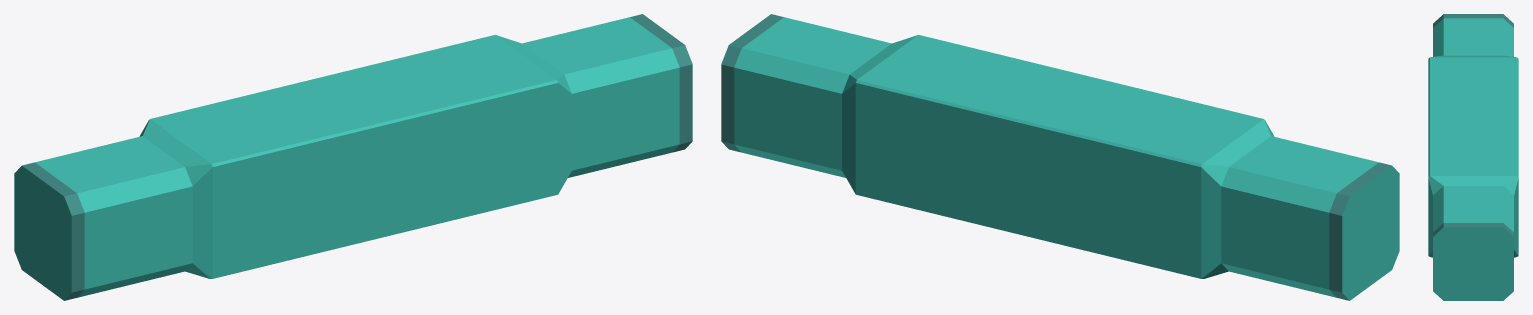
The model's file is FinishBlock.fbx.
3 views of the same model, side by side, from view 1: azimuth 30°, elevation 25°; view 2: azimuth 150°, elevation 25°; view 3: azimuth 270°, elevation 25° (orthographic). The views are drawn at different scales.
Parts seen in each view (by area): view 1: Cube.002; view 2: Cube.002; view 3: Cube.002.
Boxes of the visible parts, x1=… form: Cube.002: x1=14, y1=14, x2=692, y2=300; Cube.002: x1=721, y1=14, x2=1399, y2=300; Cube.002: x1=1428, y1=14, x2=1518, y2=300.
Bounding box in the file's own units: 560 × 100 × 100.
